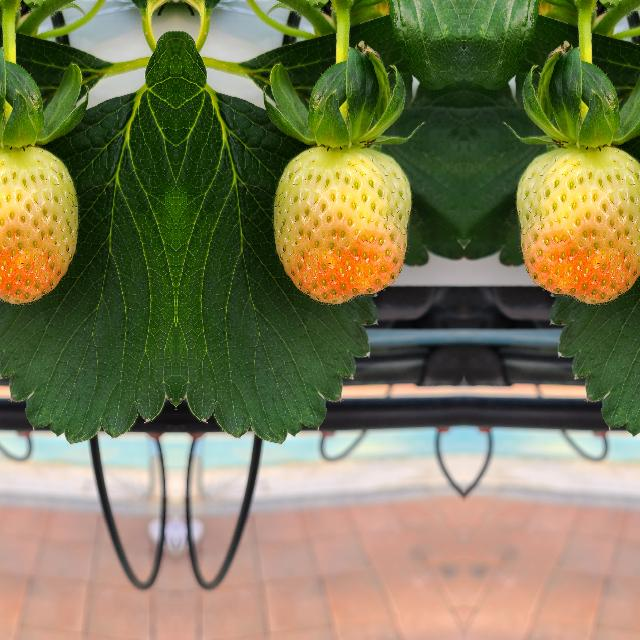Health_50: (271, 145, 414, 307), (512, 145, 640, 307), (0, 145, 79, 307)
